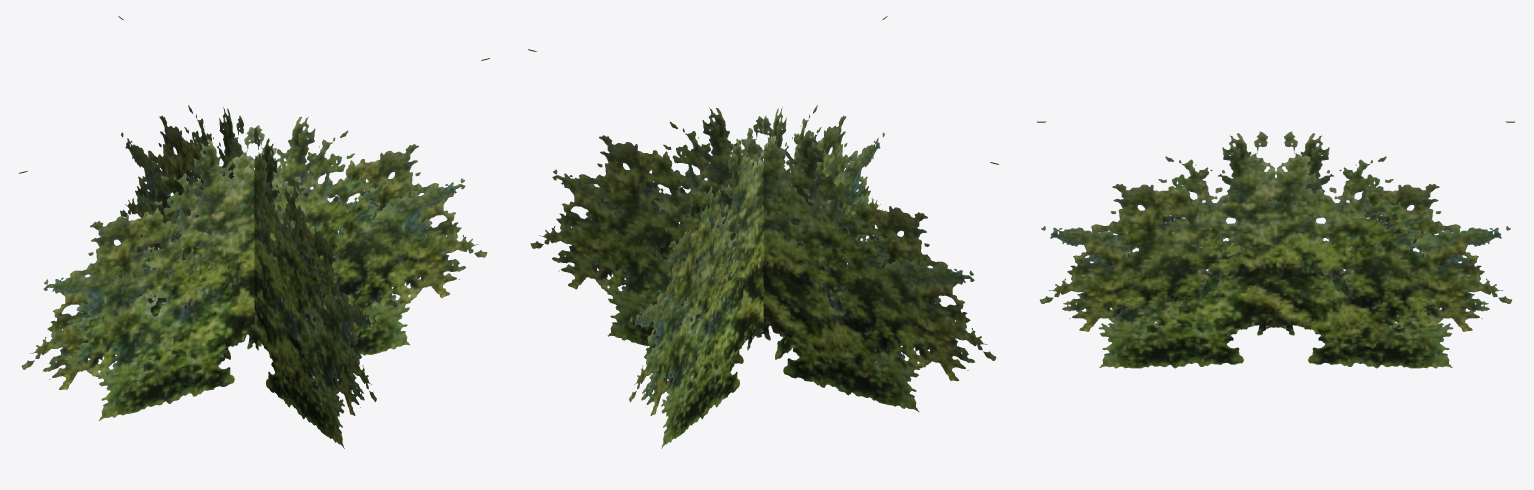
The model's file is poison_ivy_1.FBX.
The picture shows the model from 3 angles, left to right: view 1: azimuth 30°, elevation 25°; view 2: azimuth 150°, elevation 25°; view 3: azimuth 270°, elevation 25°; orthographic projection. The views are drawn at different scales.
Visible parts, largest first — view 1: poison_ivy_1; view 2: poison_ivy_1; view 3: poison_ivy_1.
Part boxes in pixels (x1=…): poison_ivy_1: x1=19, y1=16, x2=489, y2=448; poison_ivy_1: x1=528, y1=16, x2=998, y2=448; poison_ivy_1: x1=1037, y1=121, x2=1514, y2=368.
Bounding box in the file's own units: 220 × 118 × 211.
